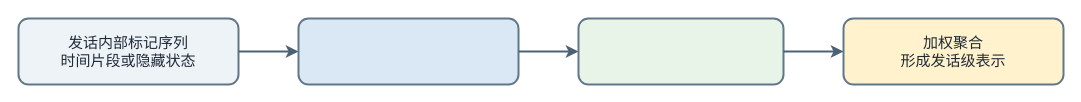
Some shapes in this 1081 by 102 pixel diagram are drawn without their labels. Here are the shapes that lost their labels. From the top down, the centre of each, then its label:
At point (408, 51): "权重打分 估计情绪相关程度".
At point (680, 51): "权重归一化 得到片段权重".
